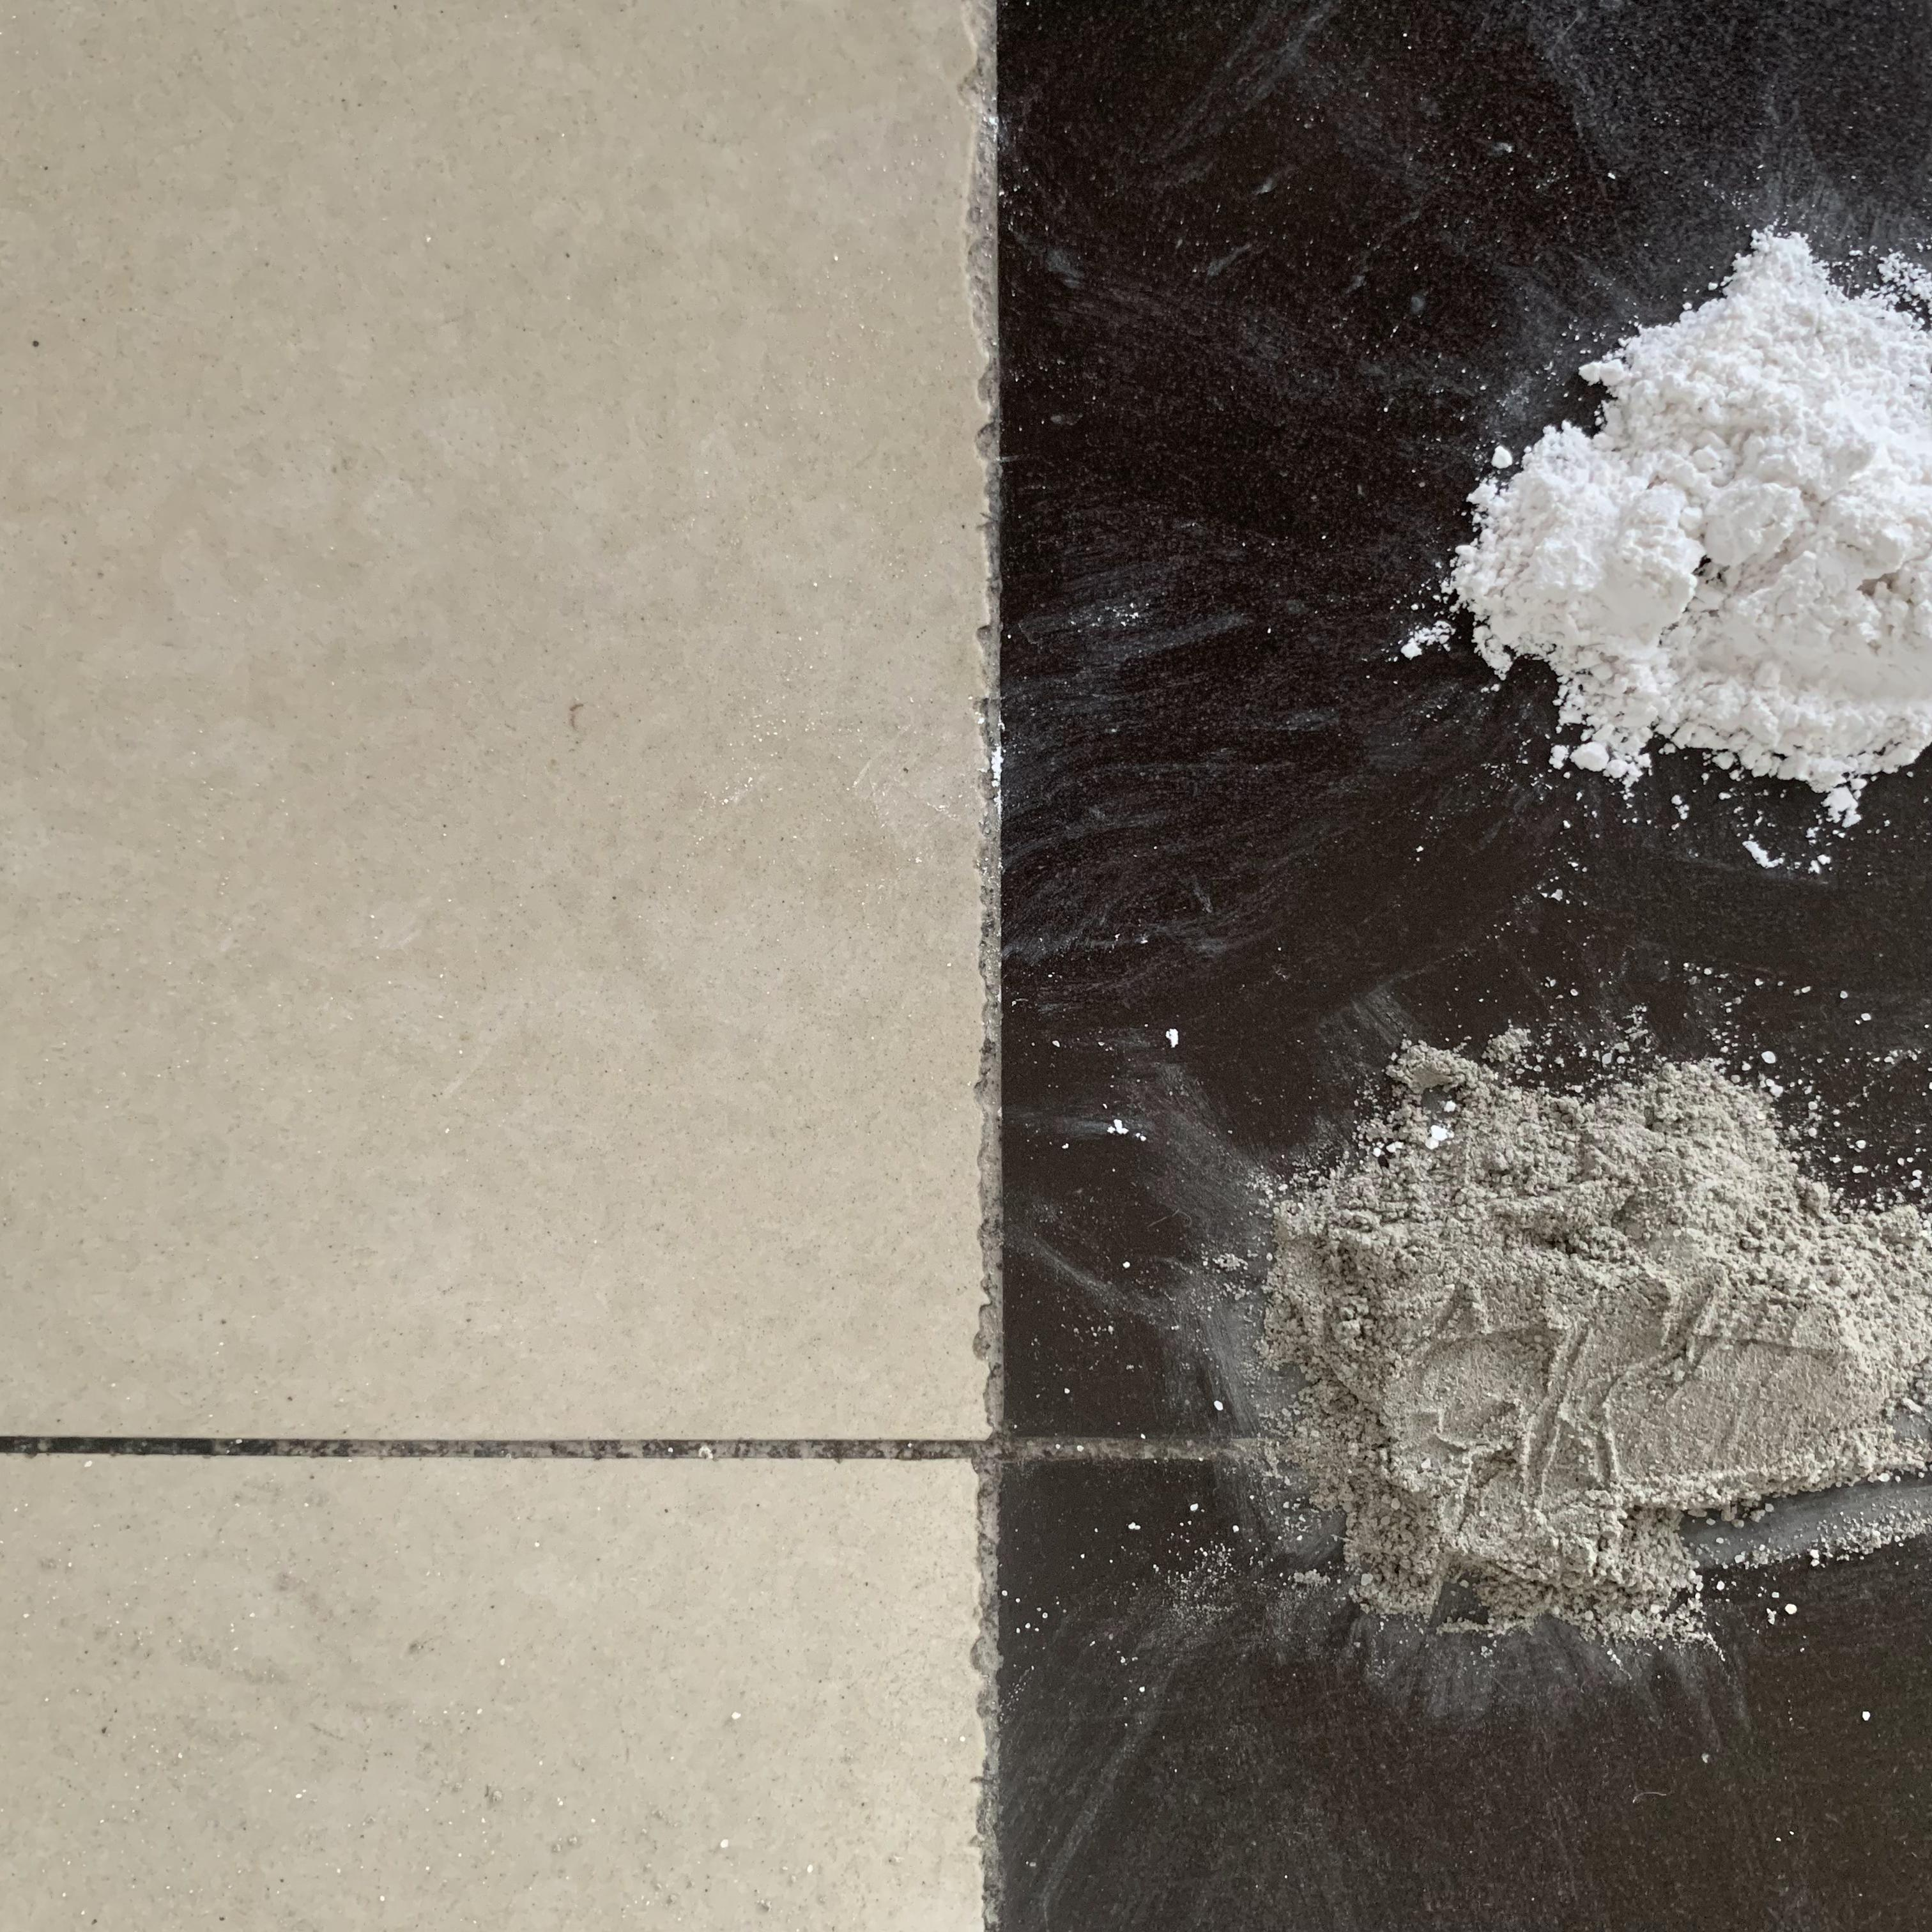ash pile: (1139, 959, 1927, 1686), (1396, 212, 1932, 876)
